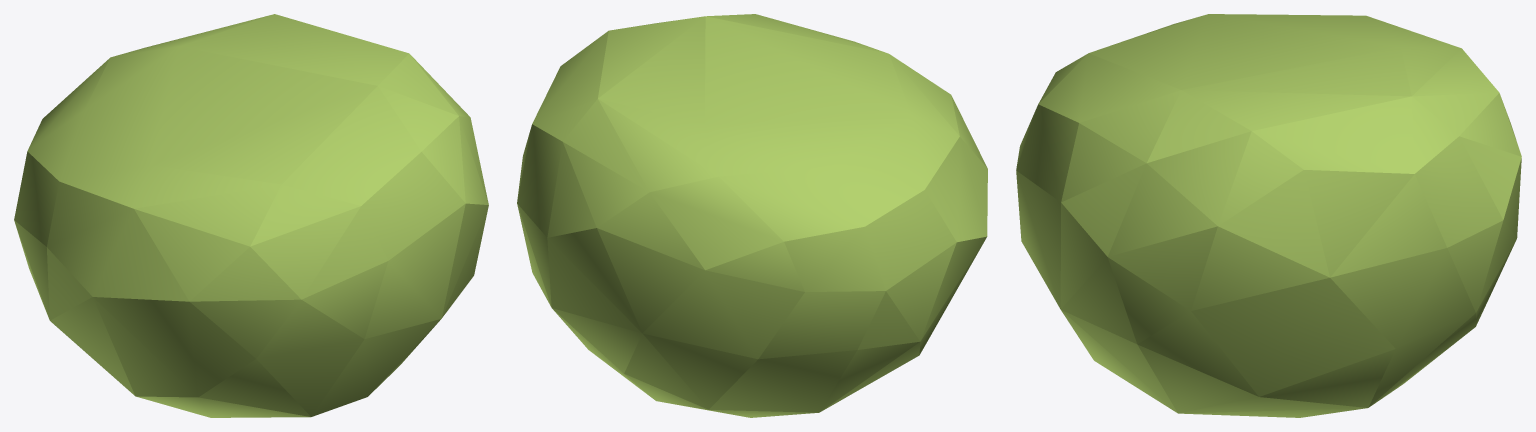
Rendered from Bush_f_m_03.fbx.
The picture shows the model from 3 angles, left to right: view 1: azimuth 30°, elevation 25°; view 2: azimuth 150°, elevation 25°; view 3: azimuth 270°, elevation 25°; orthographic projection. The views are drawn at different scales.
Parts seen in each view (by area): view 1: Bush_f_m_03; view 2: Bush_f_m_03; view 3: Bush_f_m_03.
Part boxes in pixels (x1=…): Bush_f_m_03: x1=14, y1=14, x2=488, y2=417; Bush_f_m_03: x1=517, y1=14, x2=987, y2=417; Bush_f_m_03: x1=1016, y1=14, x2=1521, y2=417.
Bounding box in the file's own units: 154 × 117 × 152.
